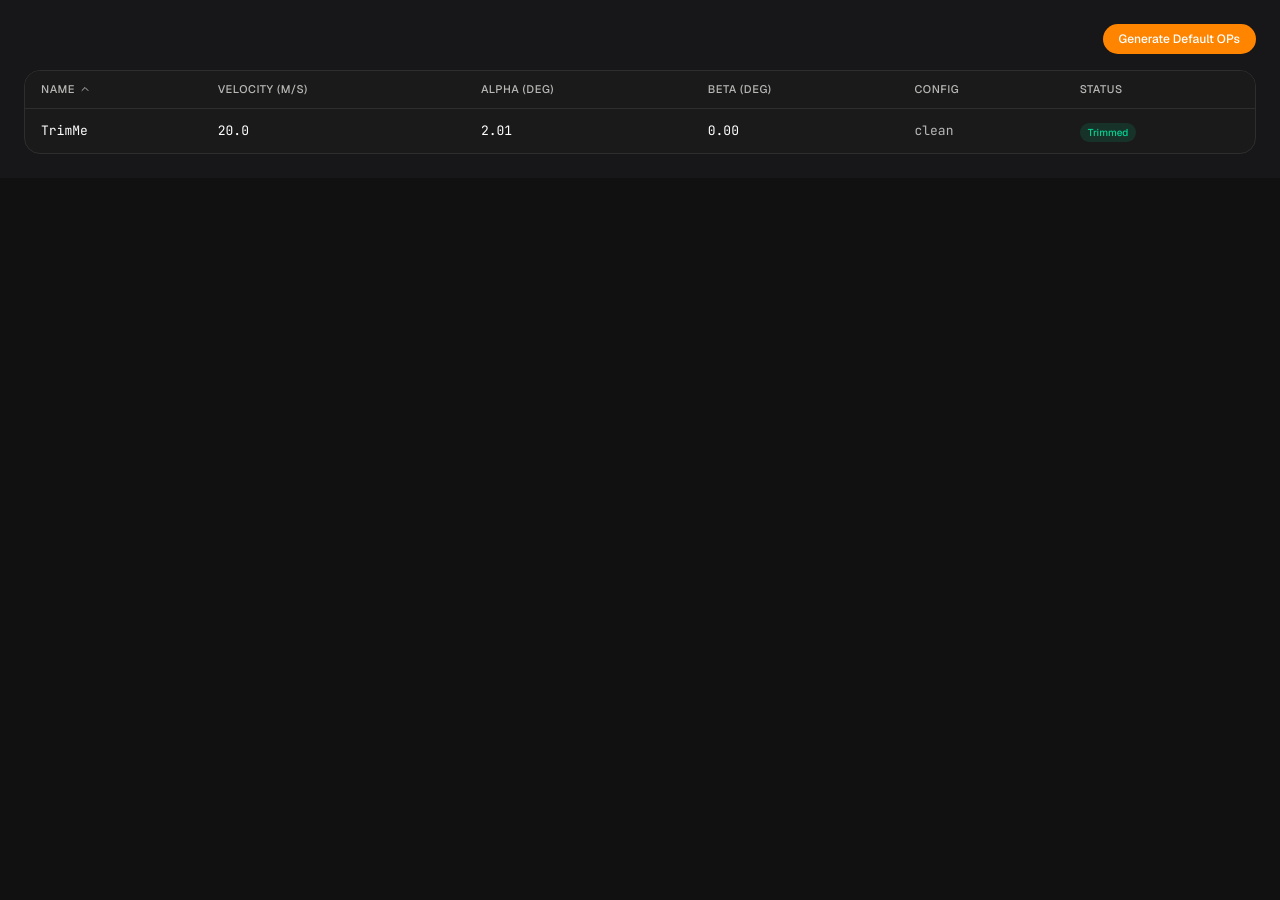
Test case: OperatingPointsPanel › runs AVL trim and shows result
Click the text "TrimMe". click: click(64, 130)
box: [25,108,202,152]
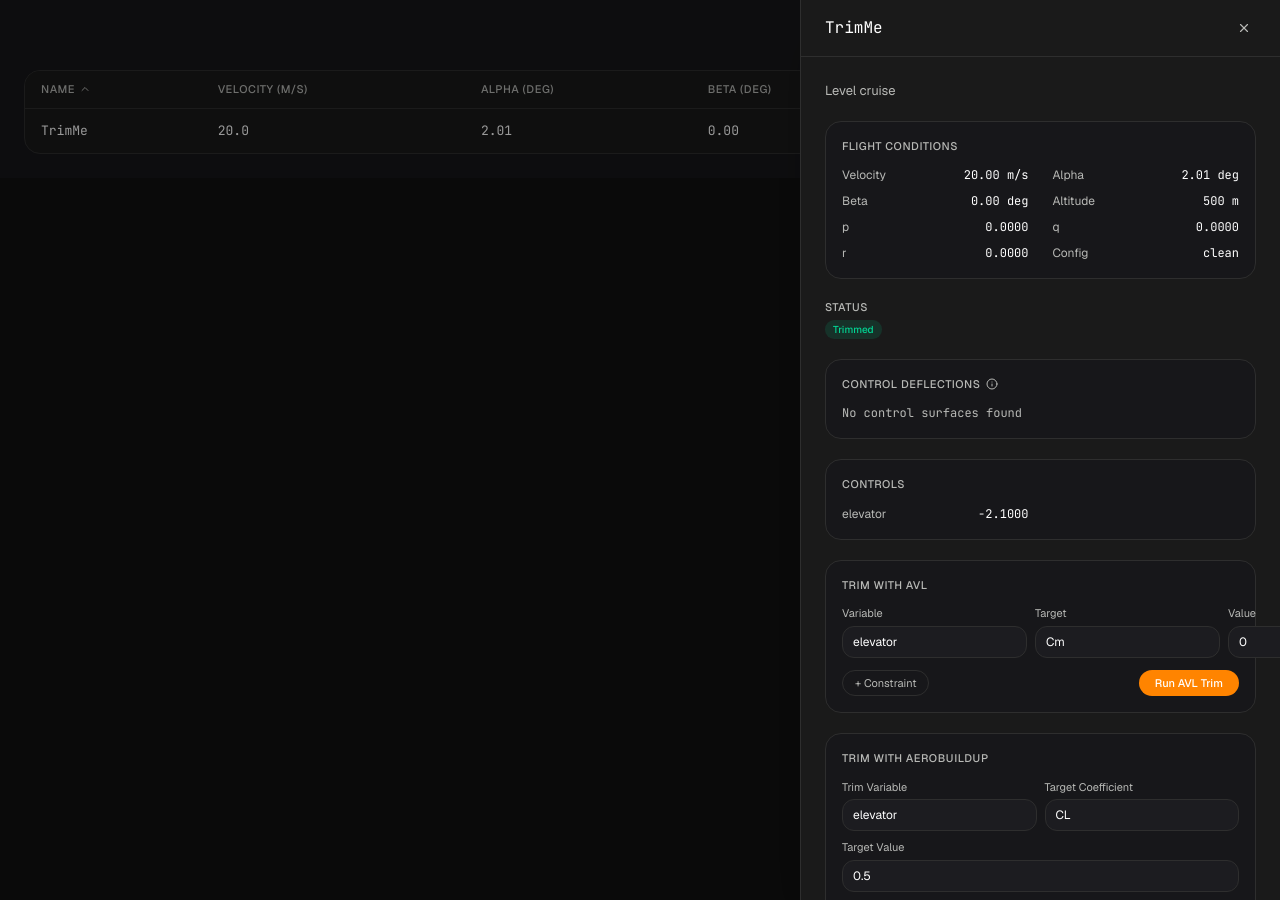
Expected: the text "Trim with AVL" is shown, [842,578,928,592]
Click the button "Run AVL Trim". click: click(1189, 683)
box: [1139,670,1239,696]
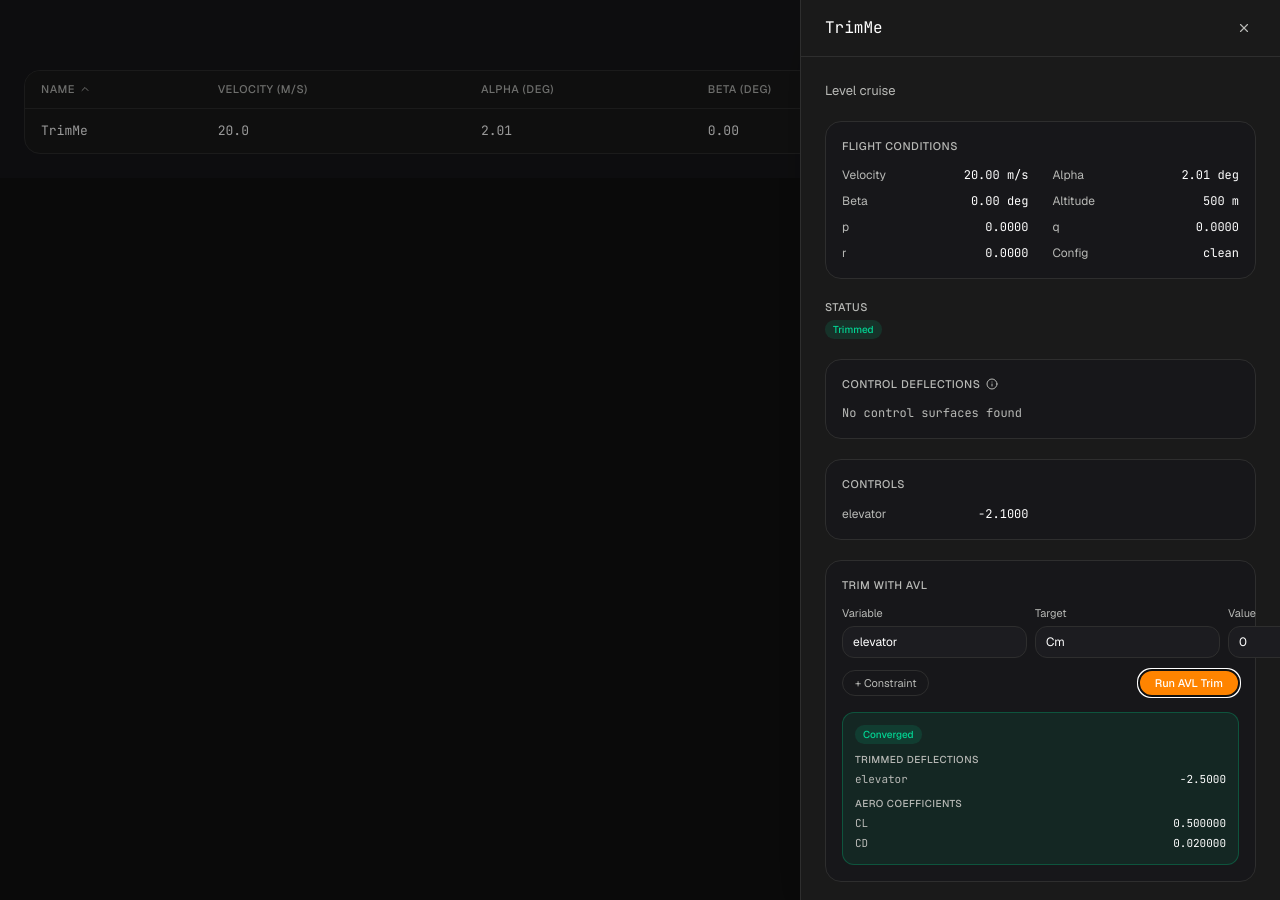
Expected: the text "Converged" is shown, [855,725,922,744]
